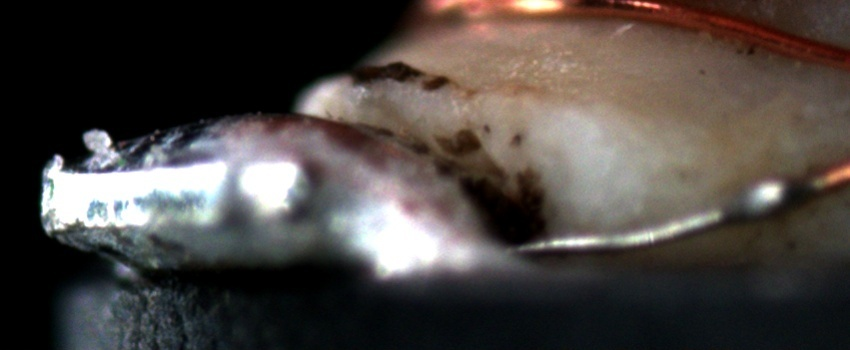TB: (737, 177, 802, 227)
TS: (502, 179, 824, 256)
TTCW: (516, 152, 849, 258)
